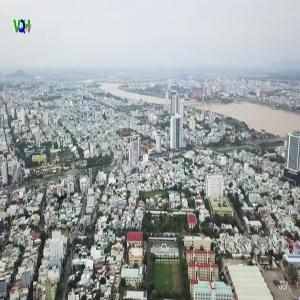drone: (36, 171, 92, 227)
